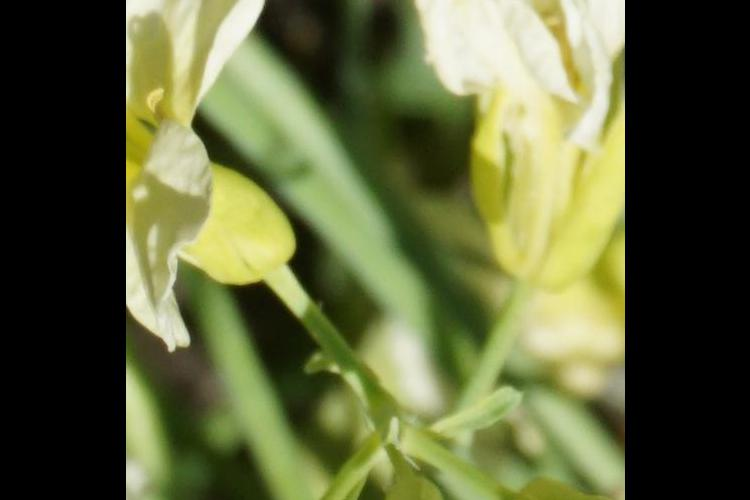bud: (369, 456, 457, 500)
white: (384, 1, 623, 301), (128, 1, 314, 364)
